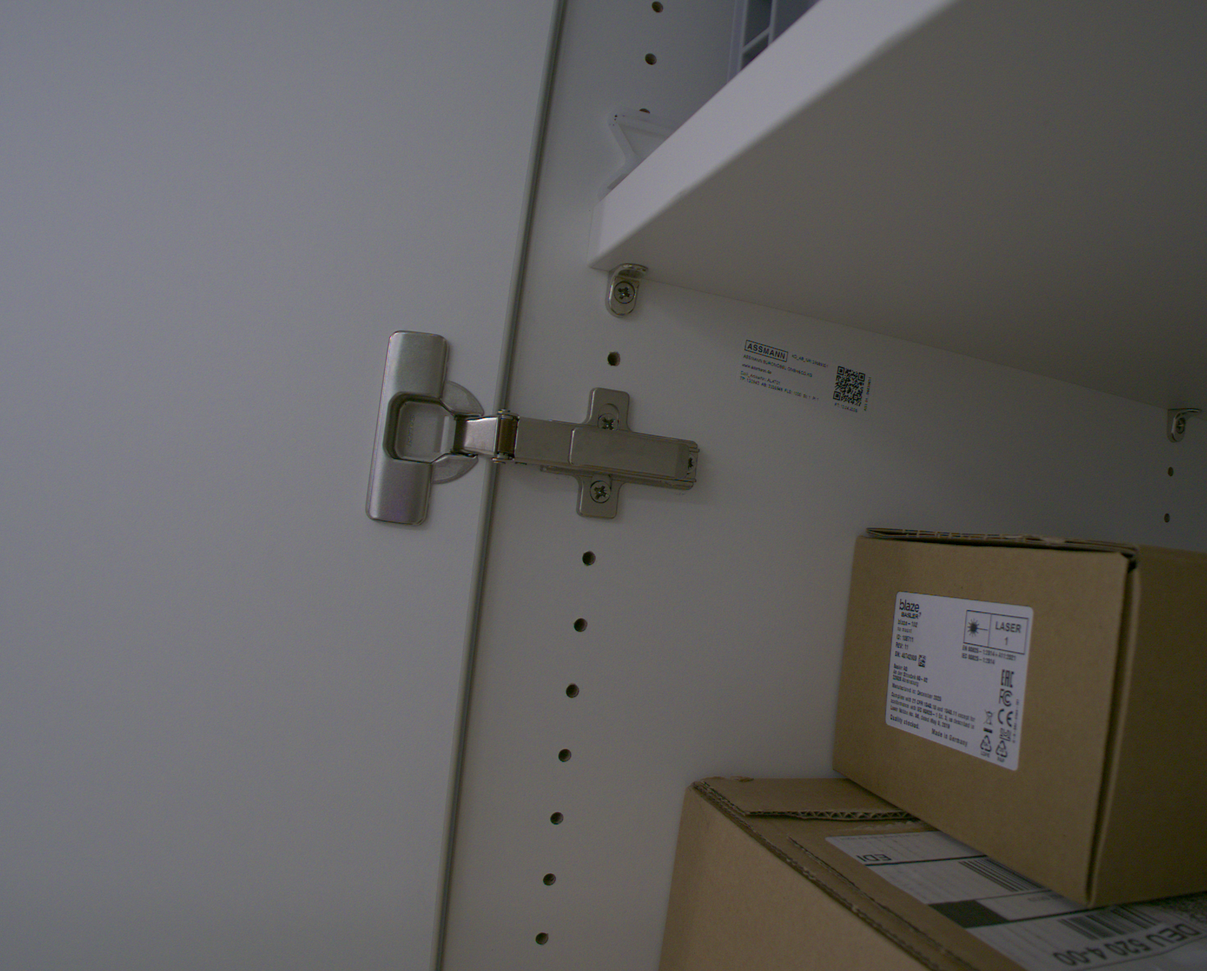screw: (590, 480, 612, 503), (612, 282, 635, 304), (597, 412, 619, 432)
